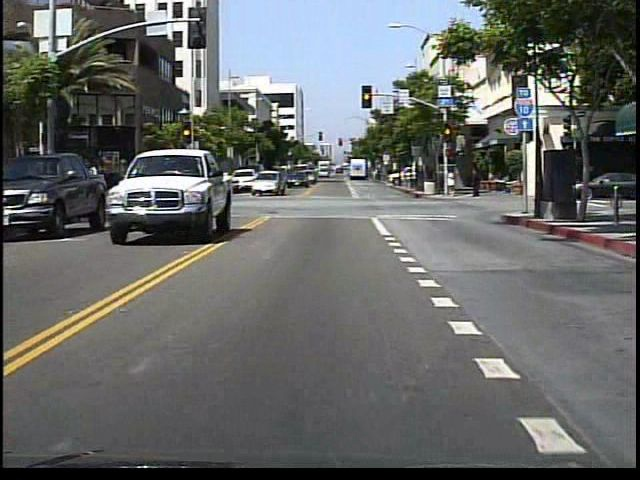person: (468, 167, 483, 200), (175, 169, 188, 197), (447, 166, 458, 198)
